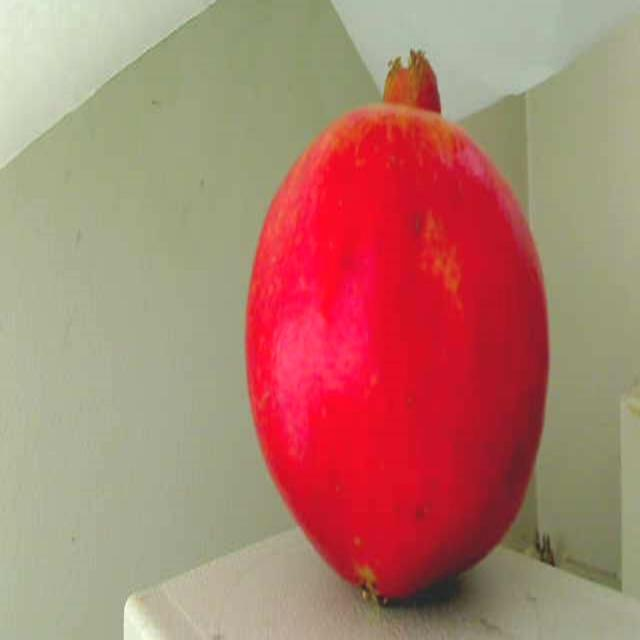pomegranate: (234, 43, 577, 612)
